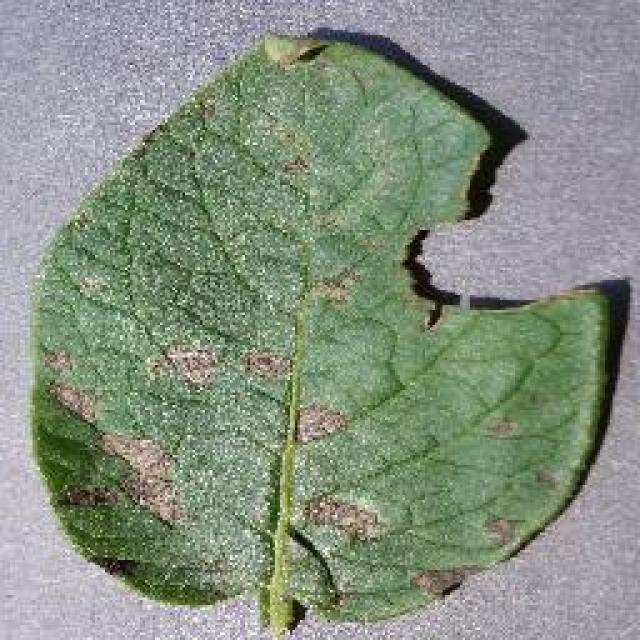early_blight: (22, 25, 632, 637)
